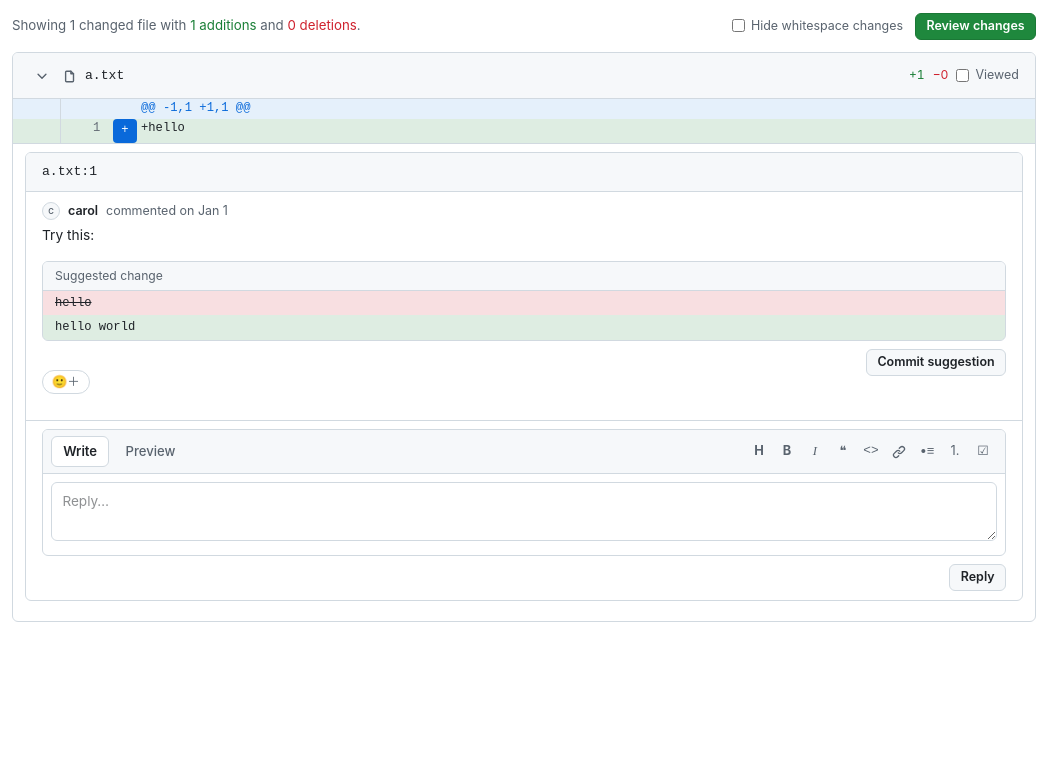
Test case: PRFilesView commit suggestion › a 409 puts the comment's button into the outdated state
Click the button "Commit suggestion" at (936, 362), box [866, 349, 1006, 376]
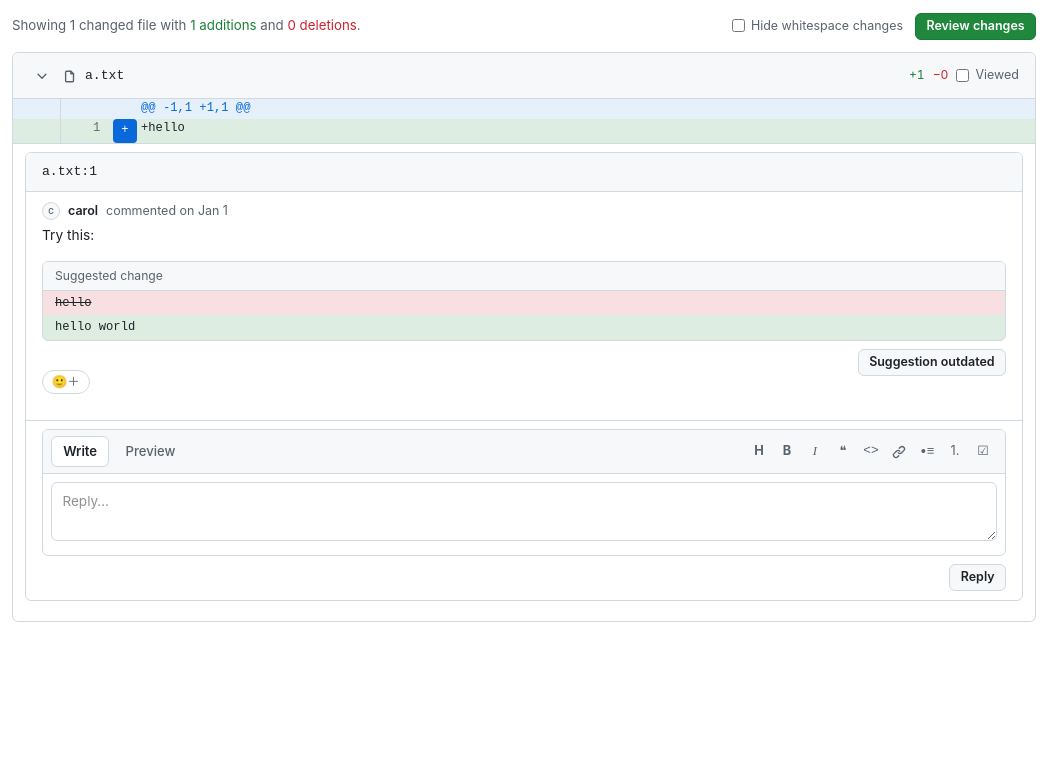
Expected: the button "Suggestion outdated" is disabled, [858, 349, 1006, 376]
